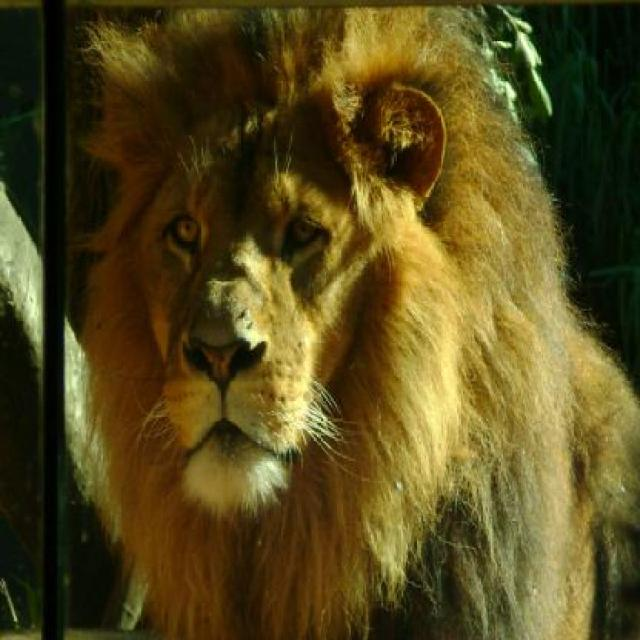Lion: (40, 6, 571, 639)
